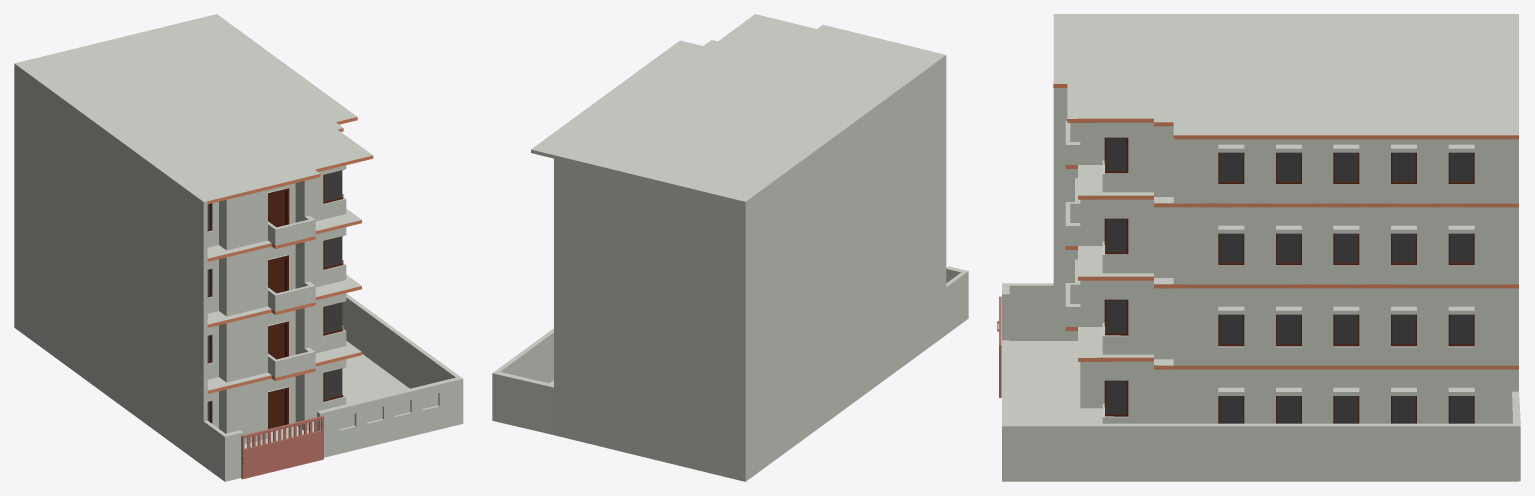
File: kos.fbx
3 views of the same model, side by side, from view 1: azimuth 30°, elevation 25°; view 2: azimuth 150°, elevation 25°; view 3: azimuth 270°, elevation 25° (orthographic). The views are drawn at different scales.
Visible parts, largest first — view 1: Kos; view 2: Kos; view 3: Kos.
Boxes of the visible parts, left/top/right/bottom form: Kos: left=14, top=14, right=463, bottom=481; Kos: left=492, top=14, right=968, bottom=481; Kos: left=997, top=14, right=1520, bottom=481.
Bounding box in the file's own units: 528 × 560 × 817.
